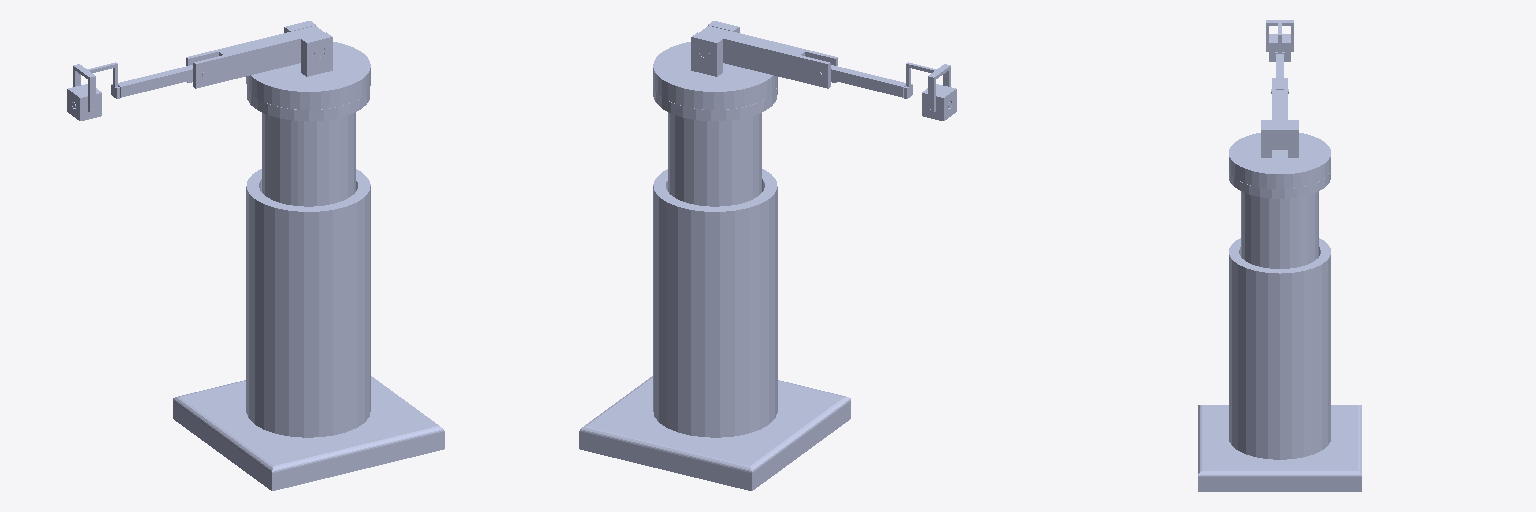
URDF robot description (camera_crane):
<?xml version="1.0" encoding="utf-8"?>
<!-- This URDF was automatically created by SolidWorks to URDF Exporter! Originally created by Stephen Brawner (brawner@gmail.com) 
     Commit Version: 1.6.0-4-g7f85cfe  Build Version: 1.6.7995.38578
     For more information, please see http://wiki.ros.org/sw_urdf_exporter -->
<robot
  name="camera_crane">
  <link
    name="base_link">
    <inertial>
      <origin
        xyz="-4.58255063016639E-17 3.62975372768127E-18 0.339142253244623"
        rpy="0 0 0" />
      <mass
        value="134.414347149152" />
      <inertia
        ixx="21.2845777986306"
        ixy="3.55753837846806E-17"
        ixz="-3.7211365627237E-15"
        iyy="21.2845777986306"
        iyz="9.70241833491048E-17"
        izz="10.3926618604182" />
    </inertial>
    <visual>
      <origin
        xyz="0 0 0"
        rpy="0 0 0" />
      <geometry>
        <mesh
          filename="package://camera_crane/meshes/base_link.STL" />
      </geometry>
      <material
        name="">
        <color
          rgba="0.792156862745098 0.819607843137255 0.933333333333333 1" />
      </material>
    </visual>
    <collision>
      <origin
        xyz="0 0 0"
        rpy="0 0 0" />
      <geometry>
        <mesh
          filename="package://camera_crane/meshes/base_link.STL" />
      </geometry>
    </collision>
  </link>
  <link
    name="link_1">
    <inertial>
      <origin
        xyz="1.90317385562353E-17 -4.56017952494513E-18 0.743217926020885"
        rpy="0 0 0" />
      <mass
        value="168.593569754896" />
      <inertia
        ixx="32.3816441684034"
        ixy="4.336808689942E-17"
        ixz="3.44797783700674E-16"
        iyy="32.3816441684034"
        iyz="-6.64093600393027E-16"
        izz="3.17270463103646" />
    </inertial>
    <visual>
      <origin
        xyz="0 0 0"
        rpy="0 0 0" />
      <geometry>
        <mesh
          filename="package://camera_crane/meshes/link_1.STL" />
      </geometry>
      <material
        name="">
        <color
          rgba="0.792156862745098 0.819607843137255 0.933333333333333 1" />
      </material>
    </visual>
    <collision>
      <origin
        xyz="0 0 0"
        rpy="0 0 0" />
      <geometry>
        <mesh
          filename="package://camera_crane/meshes/link_1.STL" />
      </geometry>
    </collision>
  </link>
  <joint
    name="joint_1"
    type="prismatic">
    <origin
      xyz="0 0 0.1"
      rpy="0 0 0" />
    <parent
      link="base_link" />
    <child
      link="link_1" />
    <axis
      xyz="0 0 1" />
    <limit
      lower="0"
      upper="0.85"
      effort="1000"
      velocity="0.1" />
  </joint>
  <link
    name="link_2">
    <inertial>
      <origin
        xyz="-1.4976E-05 1.3318E-05 0.050405"
        rpy="0 0 0" />
      <mass
        value="17.308" />
      <inertia
        ixx="0.28255"
        ixy="1.3828E-05"
        ixz="2.804E-05"
        iyy="0.27757"
        iyz="-2.4111E-05"
        izz="0.50008" />
    </inertial>
    <visual>
      <origin
        xyz="0 0 0"
        rpy="0 0 0" />
      <geometry>
        <mesh
          filename="package://camera_crane/meshes/link_2.STL" />
      </geometry>
      <material
        name="">
        <color
          rgba="0.79216 0.81961 0.93333 1" />
      </material>
    </visual>
    <collision>
      <origin
        xyz="0 0 0"
        rpy="0 0 0" />
      <geometry>
        <mesh
          filename="package://camera_crane/meshes/link_2.STL" />
      </geometry>
    </collision>
  </link>
  <joint
    name="joint_2"
    type="revolute">
    <origin
      xyz="0 0 1.452"
      rpy="0 0 0" />
    <parent
      link="link_1" />
    <child
      link="link_2" />
    <axis
      xyz="0 0 1" />
    <limit
      lower="-3.14"
      upper="3.14"
      effort="500"
      velocity="0.2" />
  </joint>
  <link
    name="link_3">
    <inertial>
      <origin
        xyz="-0.2049 -0.002 1.6082E-17"
        rpy="0 0 0" />
      <mass
        value="4.6119" />
      <inertia
        ixx="0.0075944"
        ixy="-3.0964E-18"
        ixz="-4.8787E-19"
        iyy="0.12391"
        iyz="-3.8677E-19"
        izz="0.12501" />
    </inertial>
    <visual>
      <origin
        xyz="0 0 0"
        rpy="0 0 0" />
      <geometry>
        <mesh
          filename="package://camera_crane/meshes/link_3.STL" />
      </geometry>
      <material
        name="">
        <color
          rgba="0.79216 0.81961 0.93333 1" />
      </material>
    </visual>
    <collision>
      <origin
        xyz="0 0 0"
        rpy="0 0 0" />
      <geometry>
        <mesh
          filename="package://camera_crane/meshes/link_3.STL" />
      </geometry>
    </collision>
  </link>
  <joint
    name="joint_3"
    type="revolute">
    <origin
      xyz="0 0 0.173"
      rpy="-1.5707963267949 0 0" />
    <parent
      link="link_2" />
    <child
      link="link_3" />
    <axis
      xyz="0 0 1" />
    <limit
      lower="0"
      upper="3.14"
      effort="500"
      velocity="0.2" />
  </joint>
  <link
    name="link_4">
    <inertial>
      <origin
        xyz="-0.16539 -0.002 -4.9406E-17"
        rpy="0 0 0" />
      <mass
        value="0.72768" />
      <inertia
        ixx="0.0002504"
        ixy="-2.677E-20"
        ixz="2.9902E-20"
        iyy="0.009689"
        iyz="1.5671E-20"
        izz="0.0097185" />
    </inertial>
    <visual>
      <origin
        xyz="0 0 0"
        rpy="0 0 0" />
      <geometry>
        <mesh
          filename="package://camera_crane/meshes/link_4.STL" />
      </geometry>
      <material
        name="">
        <color
          rgba="0.79216 0.81961 0.93333 1" />
      </material>
    </visual>
    <collision>
      <origin
        xyz="0 0 0"
        rpy="0 0 0" />
      <geometry>
        <mesh
          filename="package://camera_crane/meshes/link_4.STL" />
      </geometry>
    </collision>
  </link>
  <joint
    name="joint_4"
    type="revolute">
    <origin
      xyz="-0.505 0 0"
      rpy="0 0 0" />
    <parent
      link="link_3" />
    <child
      link="link_4" />
    <axis
      xyz="0 0 -1" />
    <limit
      lower="-1.57"
      upper="1.57"
      effort="500"
      velocity="0.2" />
  </joint>
  <link
    name="link_5">
    <inertial>
      <origin
        xyz="-0.0595313032678382 -4.00357358623669E-16 -0.108000970846845"
        rpy="0 0 0" />
      <mass
        value="0.2928404184833" />
      <inertia
        ixx="0.00196939976917711"
        ixy="-5.89844972394105E-20"
        ixz="-0.000365199971688565"
        iyy="0.00219256884582607"
        iyz="-4.50055010212549E-19"
        izz="0.0013159068747202" />
    </inertial>
    <visual>
      <origin
        xyz="0 0 0"
        rpy="0 0 0" />
      <geometry>
        <mesh
          filename="package://camera_crane/meshes/link_5.STL" />
      </geometry>
      <material
        name="">
        <color
          rgba="0.792156862745098 0.819607843137255 0.933333333333333 1" />
      </material>
    </visual>
    <collision>
      <origin
        xyz="0 0 0"
        rpy="0 0 0" />
      <geometry>
        <mesh
          filename="package://camera_crane/meshes/link_5.STL" />
      </geometry>
    </collision>
  </link>
  <joint
    name="joint_5"
    type="revolute">
    <origin
      xyz="-0.375 0 0"
      rpy="1.5707963267949 0 1.5707963267949" />
    <parent
      link="link_4" />
    <child
      link="link_5" />
    <axis
      xyz="0 0 1" />
    <limit
      lower="-3.14"
      upper="3.14"
      effort="500"
      velocity="0.2" />
  </joint>
  <link
    name="link_6">
    <inertial>
      <origin
        xyz="-0.0010921 -2.3987E-06 4.499E-16"
        rpy="0 0 0" />
      <mass
        value="1.0963" />
      <inertia
        ixx="0.001976"
        ixy="-4.8468E-12"
        ixz="4.1317E-19"
        iyy="0.0019414"
        iyz="-1.6187E-19"
        izz="0.0019522" />
    </inertial>
    <visual>
      <origin
        xyz="0 0 0"
        rpy="0 0 0" />
      <geometry>
        <mesh
          filename="package://camera_crane/meshes/link_6.STL" />
      </geometry>
      <material
        name="">
        <color
          rgba="0.79216 0.81961 0.93333 1" />
      </material>
    </visual>
    <collision>
      <origin
        xyz="0 0 0"
        rpy="0 0 0" />
      <geometry>
        <mesh
          filename="package://camera_crane/meshes/link_6.STL" />
      </geometry>
    </collision>
  </link>
  <joint
    name="joint_6"
    type="revolute">
    <origin
      xyz="0.014 0 -0.158"
      rpy="1.5708 1.5708 0" />
    <parent
      link="link_5" />
    <child
      link="link_6" />
    <axis
      xyz="0 0 1" />
    <limit
      lower="-1.309"
      upper="1.309"
      effort="500"
      velocity="0.2" />
  </joint>
</robot>

--- Facts derived from the render (not from the file) ---
Views: 3 orthographic renders of the robot side by side, from view 1: azimuth 30°, elevation 25°; view 2: azimuth 150°, elevation 25°; view 3: azimuth 270°, elevation 25°.
Robot: camera_crane — 7 links, 6 joints (5 revolute, 1 prismatic); root link base_link; default pose: all joints at 0.
Links seen in each view (by area): view 1: base_link, link_1, link_2, link_3, link_4, link_5, link_6; view 2: base_link, link_1, link_2, link_3, link_4, link_5, link_6; view 3: base_link, link_1, link_2, link_3.
Boxes of the visible links, x1,y1,x2,y2 form: base_link: (173, 169, 444, 490); link_1: (247, 88, 369, 206); link_2: (246, 21, 370, 109); link_3: (186, 26, 324, 88); link_4: (118, 65, 207, 97); link_5: (73, 62, 119, 112); link_6: (67, 84, 101, 120); base_link: (579, 169, 850, 490); link_1: (653, 84, 777, 206); link_2: (653, 21, 777, 109); link_3: (699, 26, 837, 88); link_4: (816, 65, 905, 97); link_5: (904, 62, 950, 112); link_6: (922, 84, 956, 120); base_link: (1198, 238, 1361, 491); link_1: (1229, 172, 1330, 268); link_2: (1229, 120, 1330, 188); link_3: (1272, 78, 1287, 149).
Size in the robot's own frame: 1.49 by 0.8 by 1.85 metres.
Meshes: 7 distinct files referenced, 7 mesh visuals loaded (7 binary STL).
